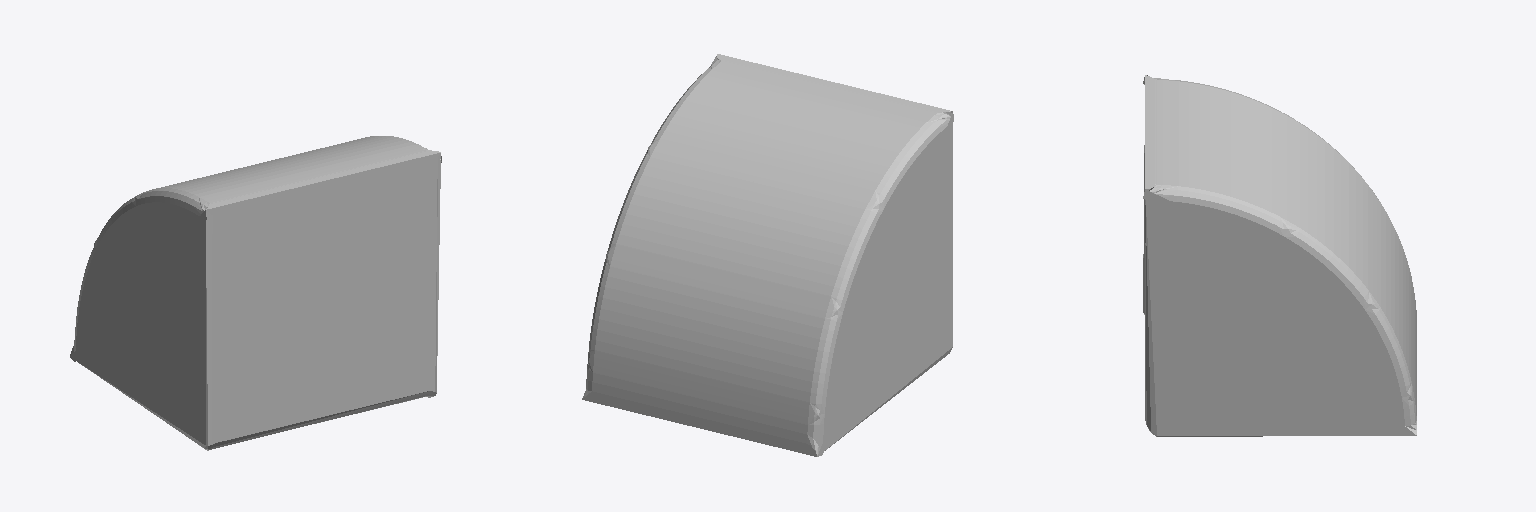
3 views of the same model, side by side, from view 1: azimuth 30°, elevation 25°; view 2: azimuth 150°, elevation 25°; view 3: azimuth 270°, elevation 25° (orthographic).
Parts seen in each view (by area): view 1: roundcube; view 2: roundcube; view 3: roundcube.
Boxes of the visible parts, <box> form: roundcube: <box>70,136,441,450</box>; roundcube: <box>582,54,953,456</box>; roundcube: <box>1143,75,1416,436</box>.
Bounding box in the file's own units: 1 × 1.01 × 1.01.